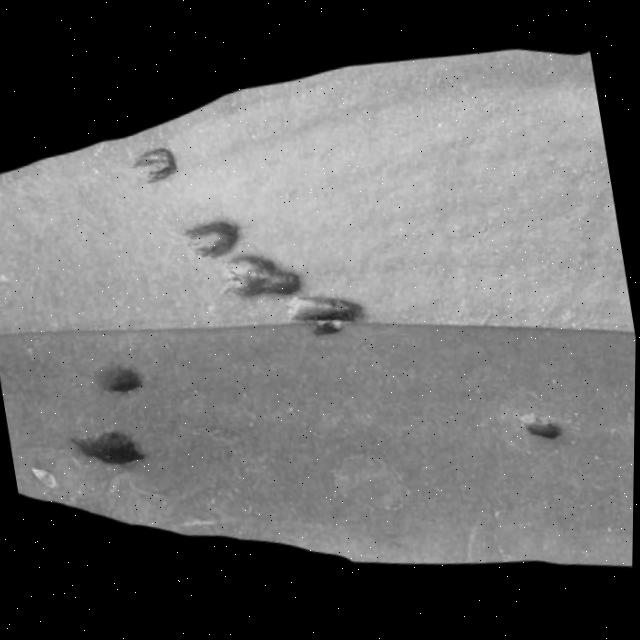mite: (24, 94, 574, 499), (55, 298, 581, 497), (58, 350, 163, 470), (312, 309, 348, 331)
sunburn: (69, 419, 151, 473), (90, 353, 151, 400), (517, 398, 572, 440)
